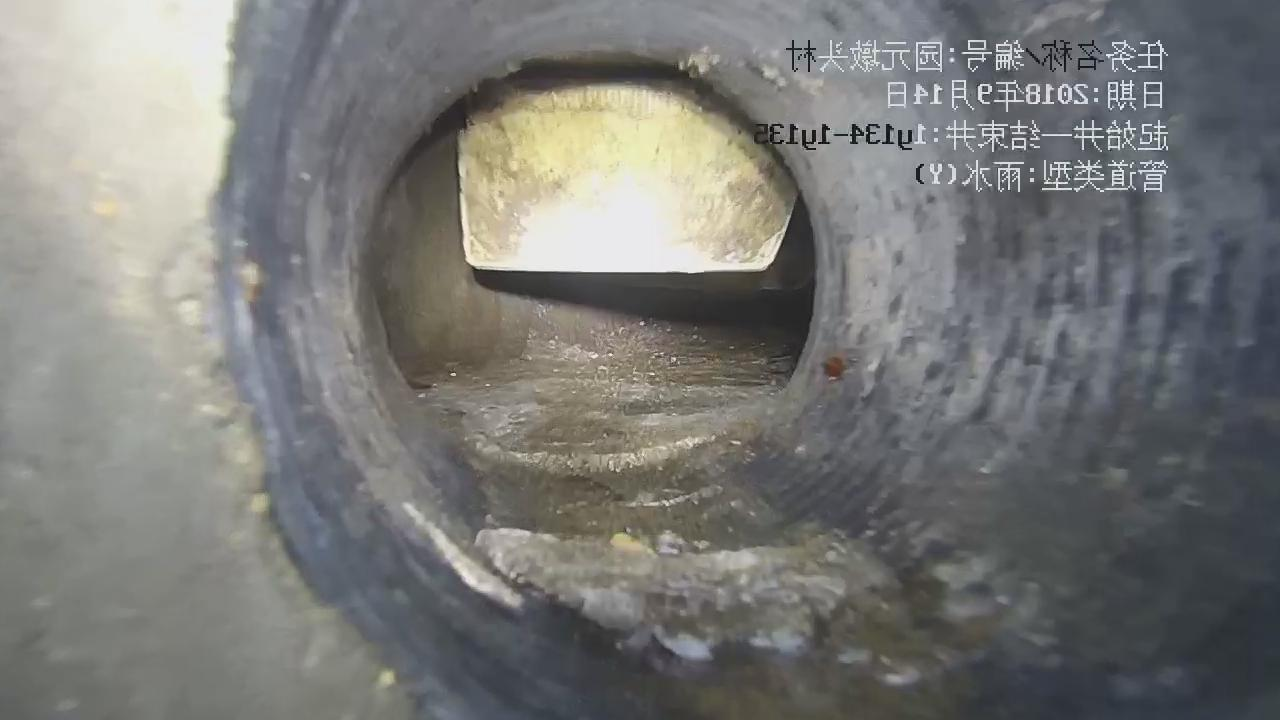YWCR: (458, 80, 798, 273)
